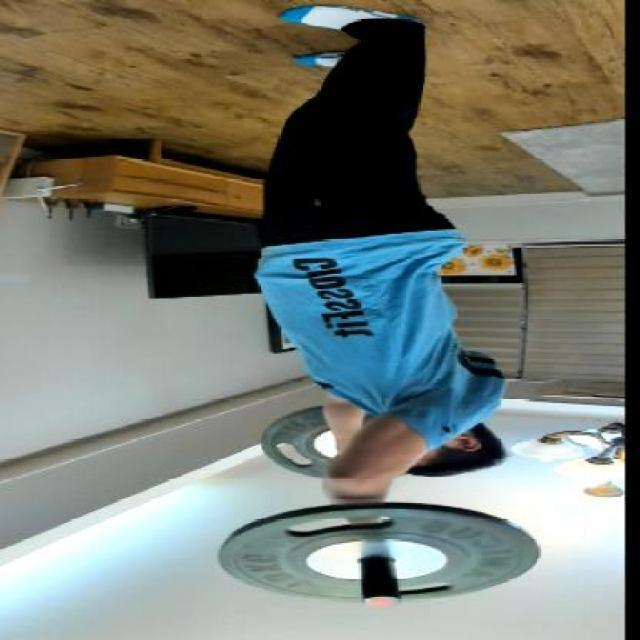Barbell: (362, 592, 409, 608)
